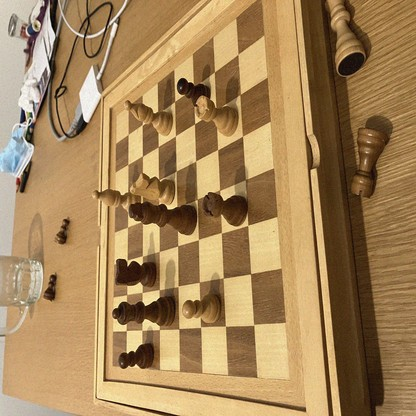bishop_white: (125, 100, 173, 135), (183, 295, 221, 322), (93, 189, 139, 209)
king_black: (130, 204, 196, 234)
knight_black: (116, 257, 156, 286)
knight_white: (131, 174, 175, 204)
pawn_black: (117, 344, 154, 368), (178, 79, 210, 101), (54, 217, 69, 242), (44, 274, 56, 300)
queen_black: (112, 297, 175, 327)
rock_black: (352, 128, 387, 199), (202, 192, 248, 224)
rock_white: (196, 98, 238, 135)
